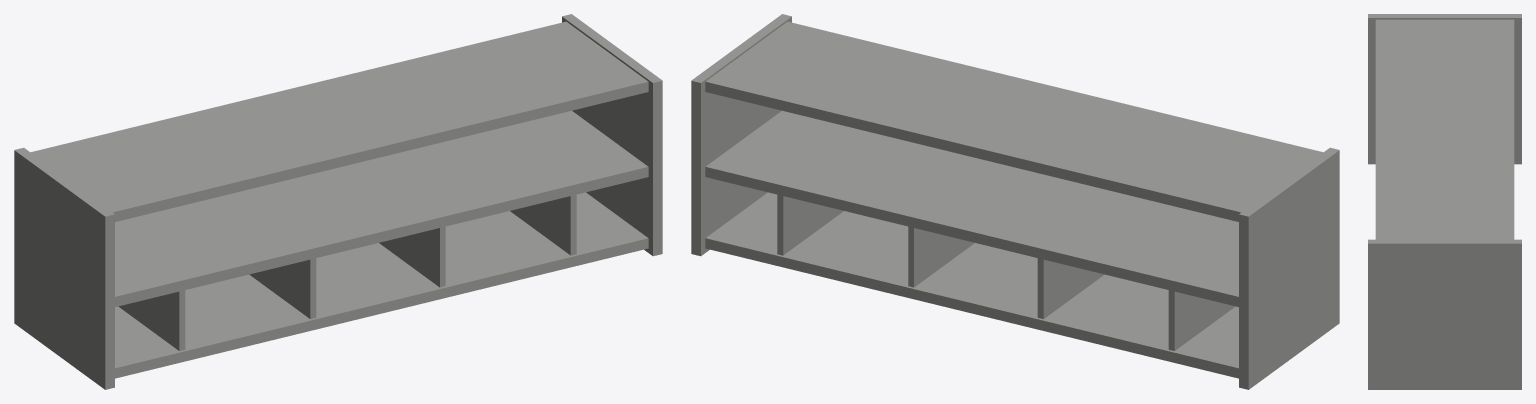
The model's file is Shelf_Small1.glb.
The picture shows the model from 3 angles, left to right: view 1: azimuth 30°, elevation 25°; view 2: azimuth 150°, elevation 25°; view 3: azimuth 270°, elevation 25°; orthographic projection. The views are drawn at different scales.
Parts seen in each view (by area): view 1: Shelf_Small1; view 2: Shelf_Small1; view 3: Shelf_Small1.
Boxes of the visible parts, x1,y1,x2,y2 form: Shelf_Small1: (14,14,662,389); Shelf_Small1: (691,14,1339,389); Shelf_Small1: (1368,14,1521,389).
Bounding box in the file's own units: 0.9508 × 0.2823 × 0.2691.
1 material, 1 textured.
